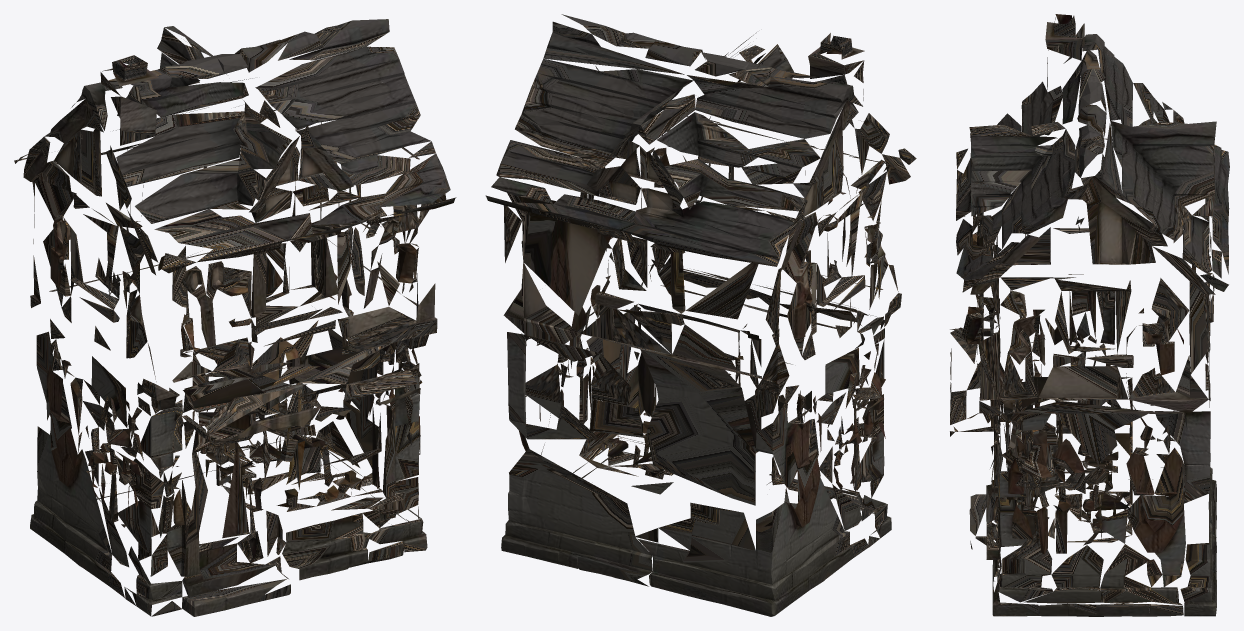
Rendered from bld_ws_tailor_a_LOD1.glb.
The picture shows the model from 3 angles, left to right: view 1: azimuth 30°, elevation 25°; view 2: azimuth 150°, elevation 25°; view 3: azimuth 270°, elevation 25°; orthographic projection. The views are drawn at different scales.
Parts seen in each view (by area): view 1: geometry_0; view 2: geometry_0; view 3: geometry_0.
Part boxes in pixels (x1,y1,x2,y2): geometry_0: [14, 19, 456, 616]; geometry_0: [485, 14, 916, 616]; geometry_0: [950, 14, 1229, 616].
Bounding box in the file's own units: 3.7 × 6 × 3.17.
1 material, 1 textured.
